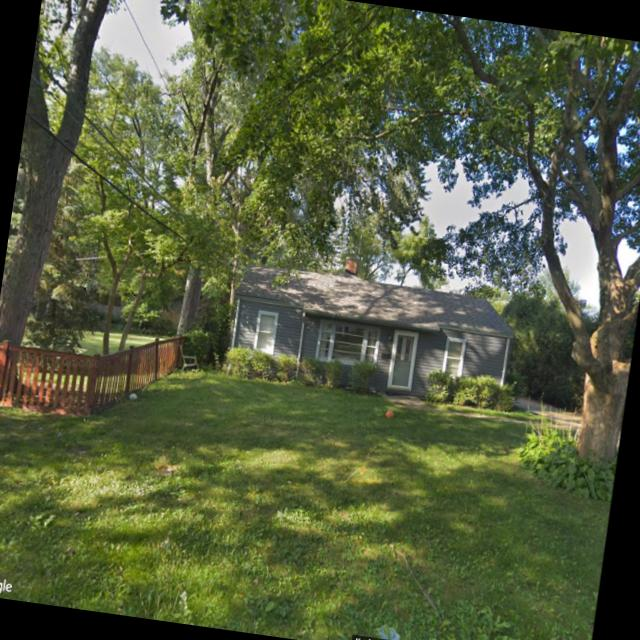House: (223, 240, 522, 408)
